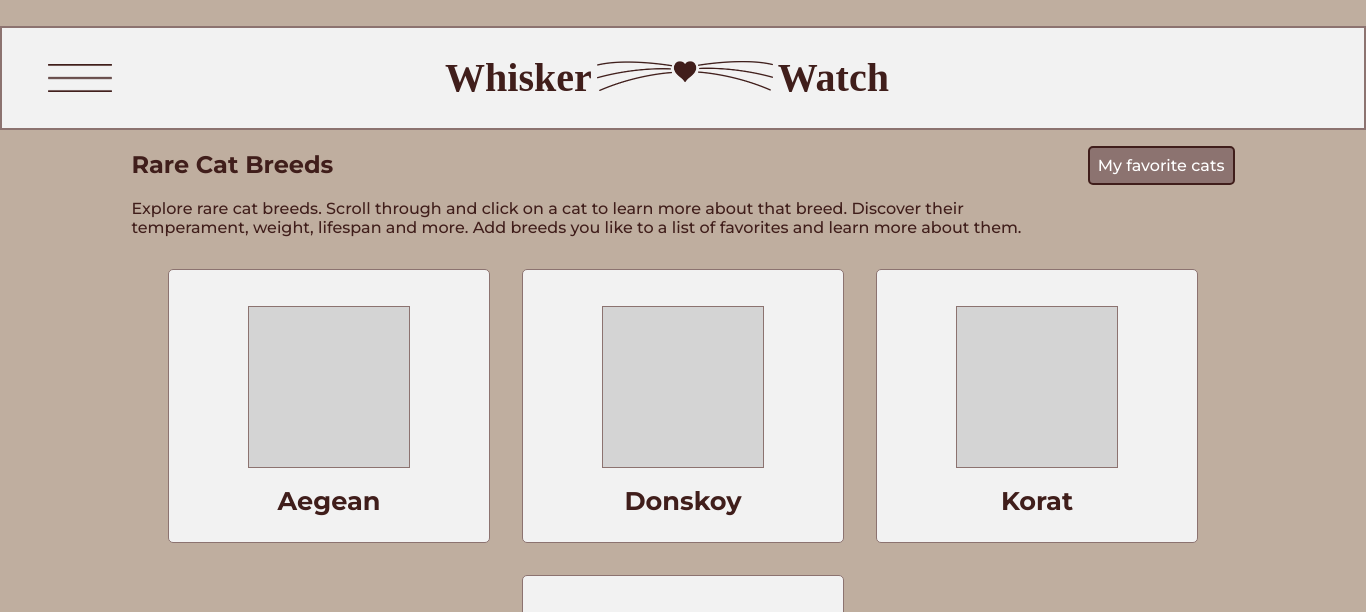
Test: landing-page-spec › Should be able to navigate to favorites from the button
The image size is (1366, 612).
Click the button "My favorite cats".
click(1162, 166)  # box [1088, 146, 1235, 185]
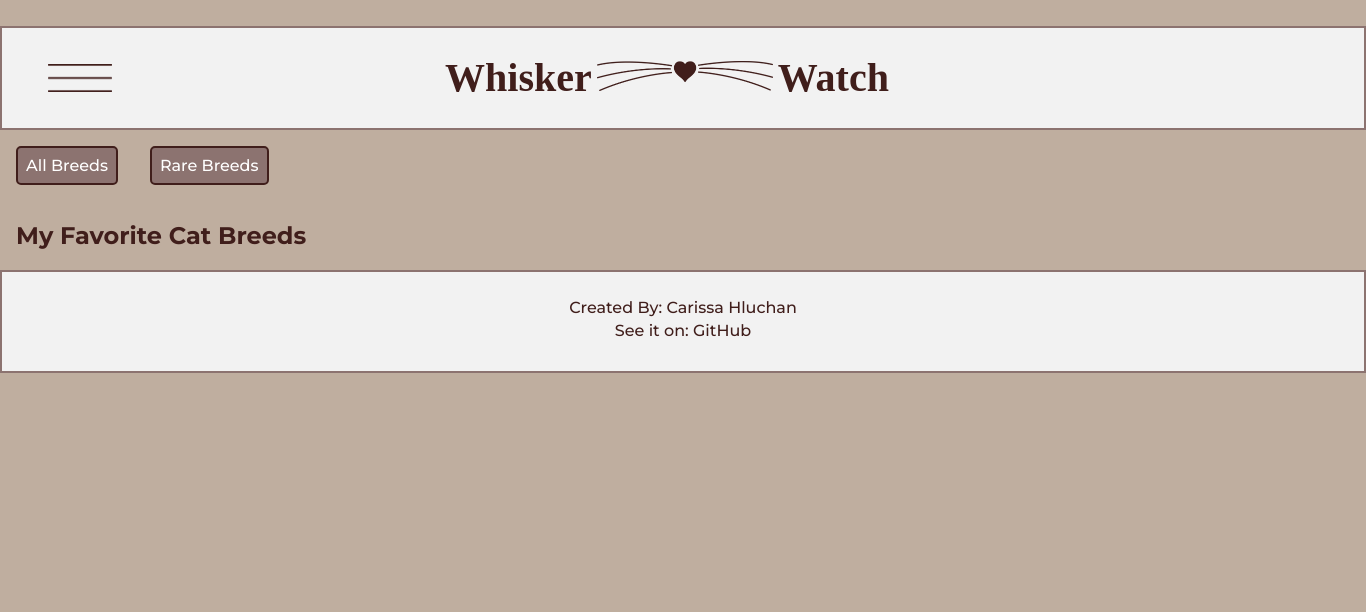
Expected: the element with class "favorite-cat-breed-main" is shown, [16, 146, 306, 250]
